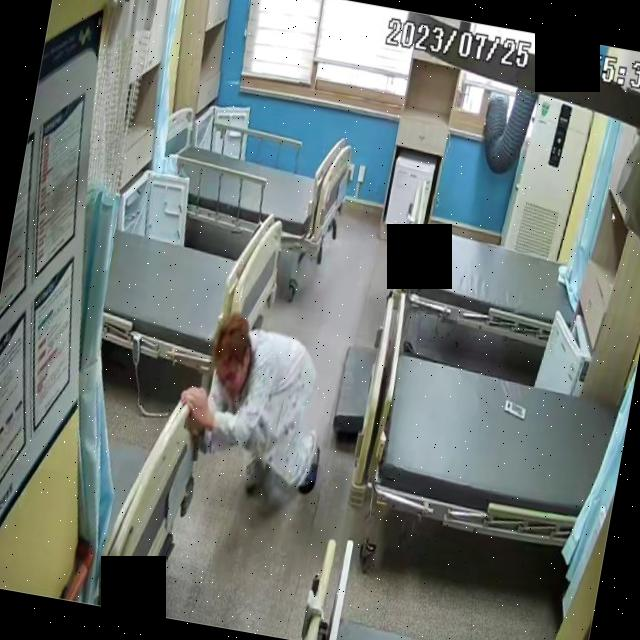bed: (364, 340, 625, 552), (91, 187, 292, 390), (150, 104, 353, 256), (390, 198, 590, 348)
danger: (167, 308, 342, 507)
patient: (166, 308, 342, 506)
